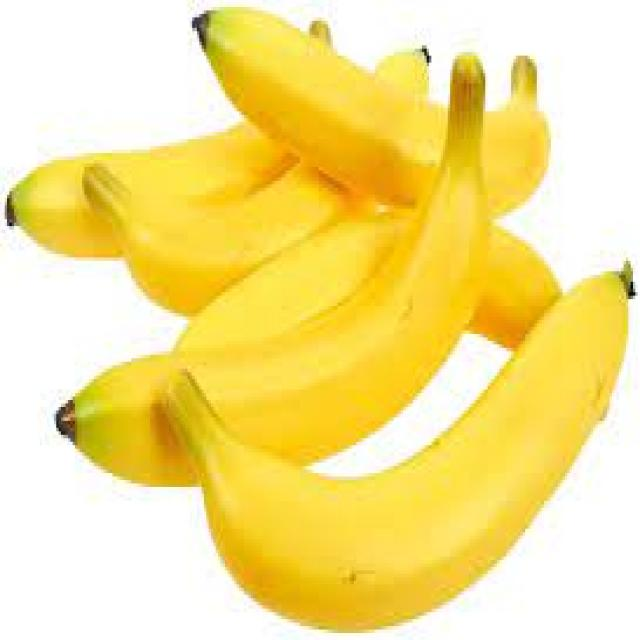banana: (46, 57, 498, 483), (163, 273, 638, 630), (7, 17, 358, 260), (189, 6, 553, 210)
